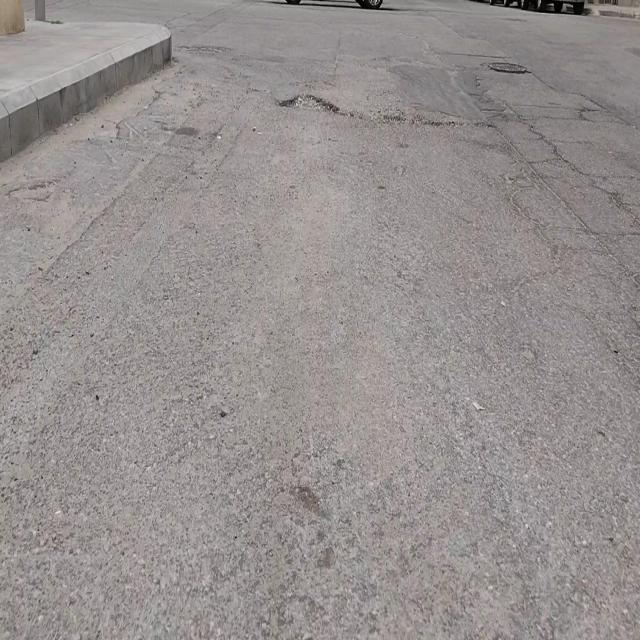Pothole: (279, 93, 340, 114)
